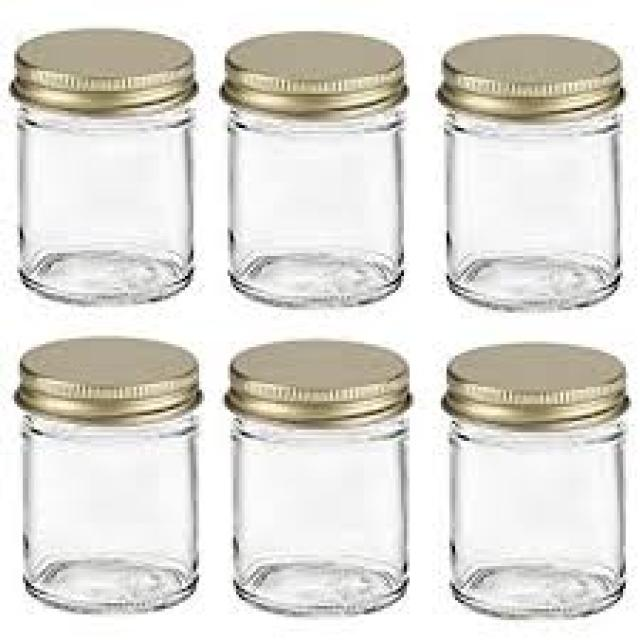Dry Waste: (216, 29, 414, 314)
